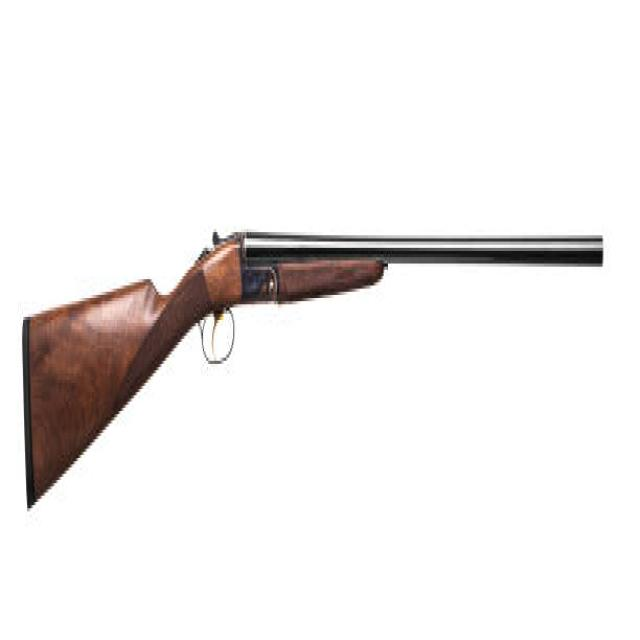rifle: (17, 201, 610, 522)
